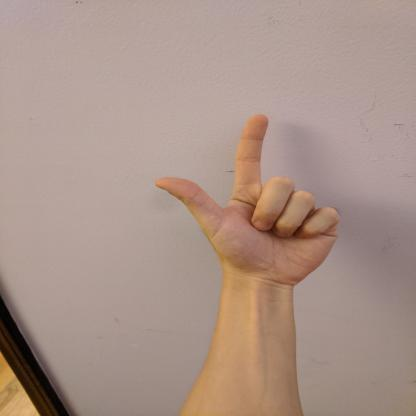L: (150, 110, 346, 292)
